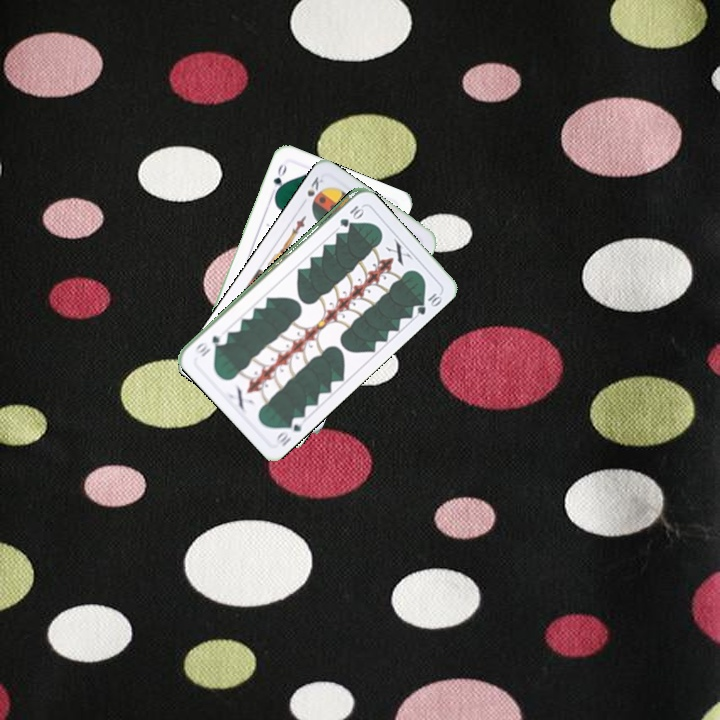G10: (272, 412, 307, 449), (336, 201, 365, 229)
GO: (269, 160, 290, 199)
SK: (303, 172, 326, 199)
